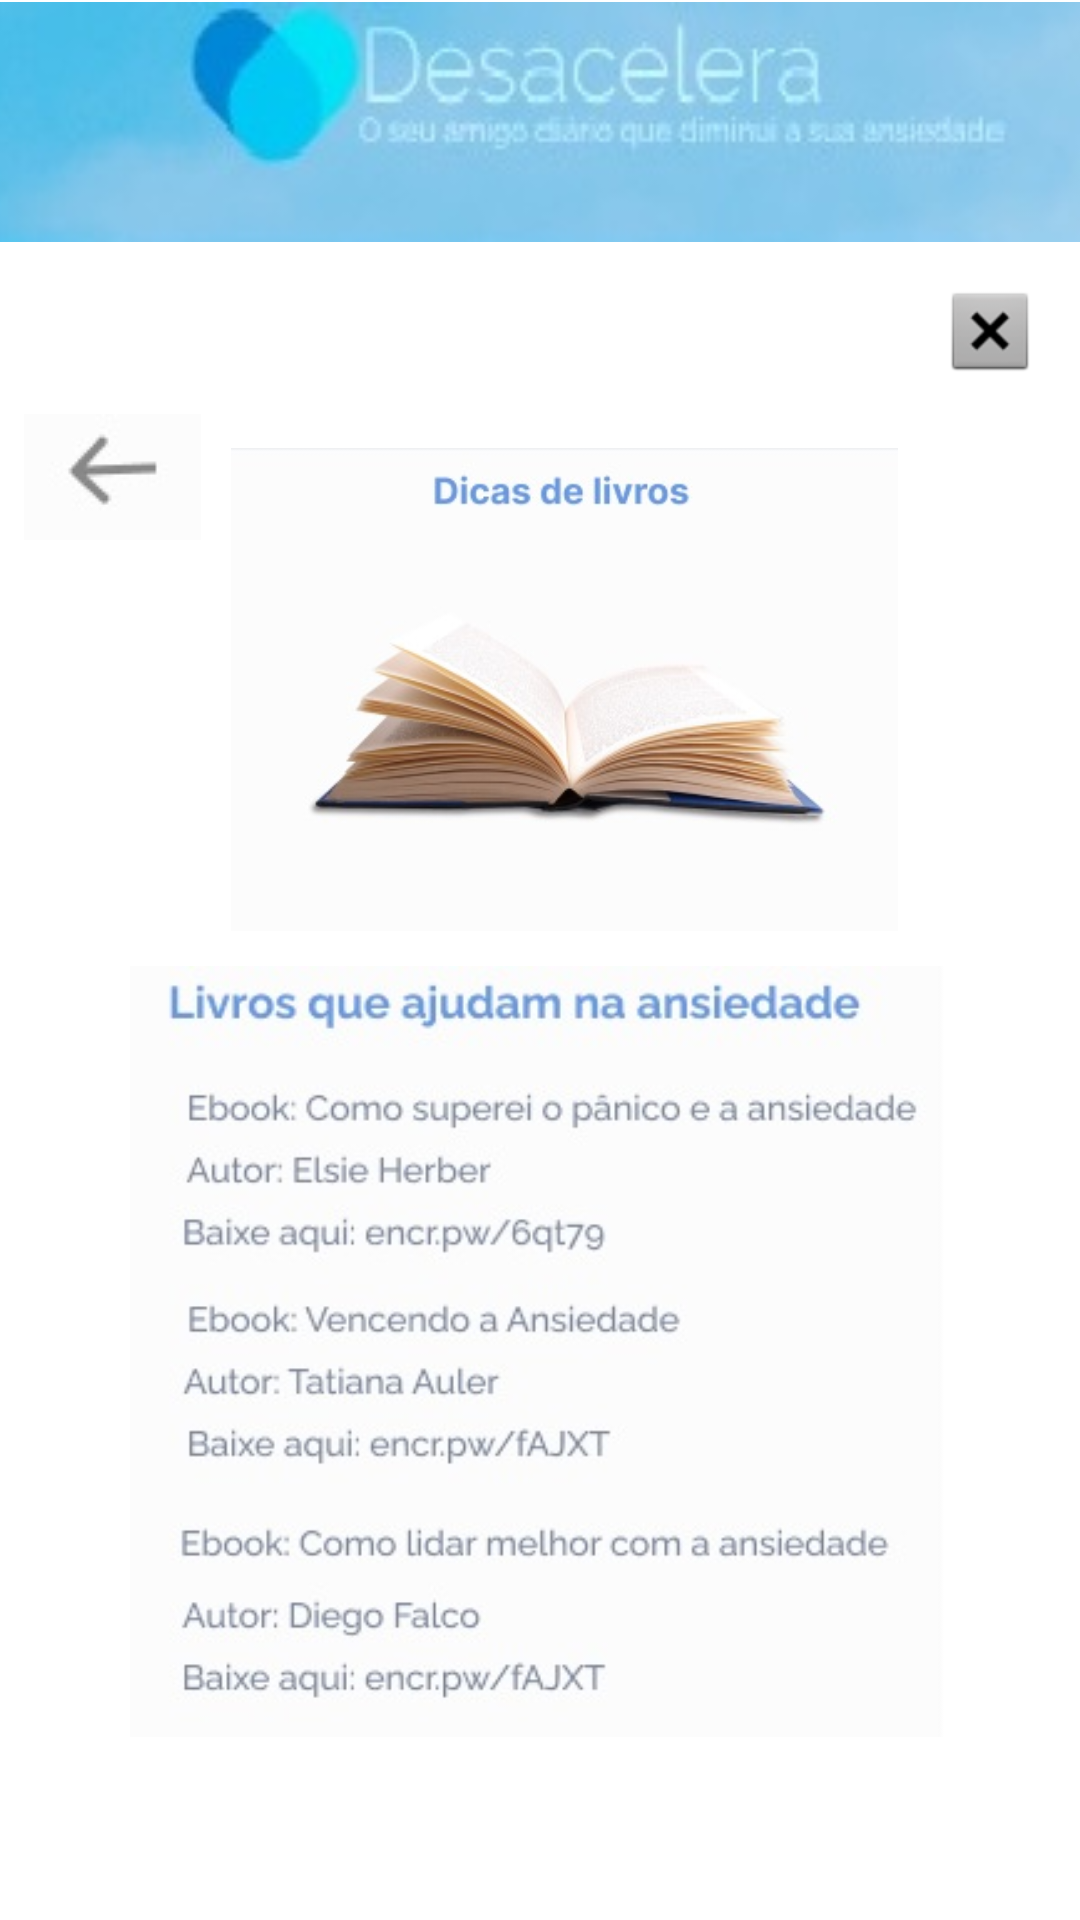

Where to tap for icons on this 1080 x 1920 app screen, as (x,y):
fig voltar: (113,470)
